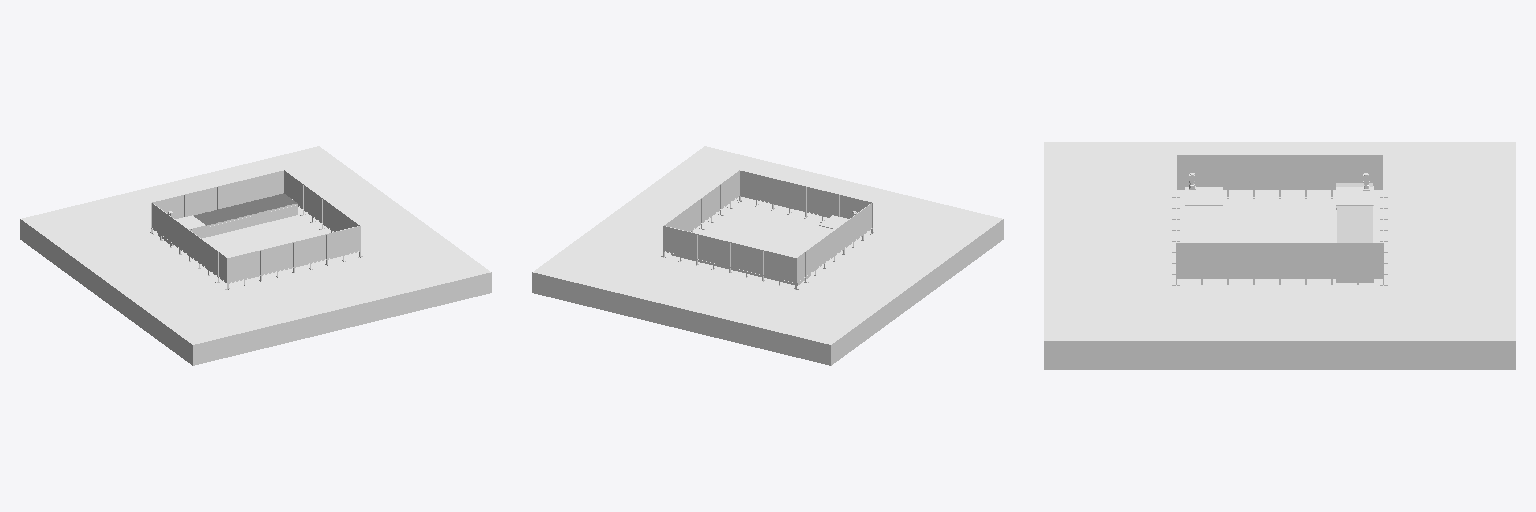
robot.urdf — rccn_kuka_robot_cell:
<?xml version="1.0" ?>
<!-- =================================================================================== -->
<!-- |    This document was autogenerated by xacro from rccn_kuka_robot_cell.xacro     | -->
<!-- |    EDITING THIS FILE BY HAND IS NOT RECOMMENDED                                 | -->
<!-- =================================================================================== -->
<robot name="rccn_kuka_robot_cell">
  <link name="kuka_robot_cell_world">
    <visual>
      <geometry>
        <mesh filename="package://rccn_kuka_robot_cell/meshes/world/visual/robot_cell_fixture.stl"/>
      </geometry>
      <material name="">
        <color rgba="1.0 1.0 1.0 1.0"/>
      </material>
    </visual>
    <collision>
      <geometry>
        <mesh filename="package://rccn_kuka_robot_cell/meshes/world/collision/floor.stl" scale="0.001 0.001 0.001"/>
      </geometry>
    </collision>
  </link>
  <link name="east_e1_rail">
    <visual>
      <geometry>
        <mesh filename="package://rccn_kuka_robot_cell/meshes/rail/visual/east_rail.stl"/>
      </geometry>
      <material name="">
        <color rgba="1.0 1.0 1.0 1.0"/>
      </material>
    </visual>
    <collision>
      <geometry>
        <mesh filename="package://rccn_kuka_robot_cell/meshes/rail/collision/east_rail.stl" scale="0.001 0.001 0.001"/>
      </geometry>
    </collision>
  </link>
  <joint name="east_joint_e1" type="prismatic">
    <parent link="east_e1_rail"/>
    <child link="east_e1_plate"/>
    <!-- Here we enter the joint position just defined before -->
    <origin rpy="0.00000000 0.00000000 0.00000000" xyz="0.00000000 0.00000000 0.00000000"/>
    <!-- Here we define the axis along which the geometry is moved -->
    <axis xyz="1 0 0"/>
    <!-- Here we define the joint's upper and lower limits -->
    <limit effort="1000.0" lower="0.0" upper="4.266" velocity="0.25"/>
  </joint>
  <link name="east_e1_plate">
    <visual>
      <geometry>
        <mesh filename="package://rccn_kuka_robot_cell/meshes/rail/visual/east_plate.stl"/>
      </geometry>
      <material name="">
        <color rgba="1.0 1.0 1.0 1.0"/>
      </material>
    </visual>
    <collision>
      <geometry>
        <mesh filename="package://rccn_kuka_robot_cell/meshes/rail/collision/east_plate.stl" scale="0.001 0.001 0.001"/>
      </geometry>
    </collision>
  </link>
  <joint name="east_attachment_joint" type="fixed">
    <parent link="east_e1_plate"/>
    <child link="east_base_link"/>
    <origin rpy="-0.00000002 -0.00012841 0.00024798" xyz="-0.00206000 -0.00032000 -0.00000000"/>
  </joint>
  <!-- LINKS -->
  <!-- base link -->
  <link name="east_base_link">
    <inertial>
      <origin rpy="0 0 0" xyz="0 0 0"/>
      <mass value="2"/>
      <inertia ixx="0.01" ixy="0" ixz="0" iyy="0.01" iyz="0" izz="0.01"/>
    </inertial>
    <visual>
      <origin rpy="0 0 0" xyz="0 0 0"/>
      <geometry>
        <mesh filename="package://kuka_kr300_support/meshes/kr300r2500ultra/visual/base_link.stl"/>
      </geometry>
      <material name="">
        <color rgba="1.0 1.0 1.0 1.0"/>
      </material>
    </visual>
    <collision>
      <origin rpy="0 0 0" xyz="0 0 0"/>
      <geometry>
        <mesh filename="package://kuka_kr300_support/meshes/kr300r2500ultra/collision/base_link.stl" scale="0.001 0.001 0.001"/>
      </geometry>
    </collision>
  </link>
  <!-- link 1 (A1) -->
  <link name="east_link_1">
    <inertial>
      <origin rpy="0 0 0" xyz="0 0 0"/>
      <mass value="2"/>
      <inertia ixx="0.01" ixy="0" ixz="0" iyy="0.01" iyz="0" izz="0.01"/>
    </inertial>
    <visual>
      <origin rpy="0 0 0" xyz="0 0 0"/>
      <geometry>
        <mesh filename="package://kuka_kr300_support/meshes/kr300r2500ultra/visual/link_1.stl"/>
      </geometry>
      <material name="">
        <color rgba="1.0 1.0 1.0 1.0"/>
      </material>
    </visual>
    <collision>
      <origin rpy="0 0 0" xyz="0 0 0"/>
      <geometry>
        <mesh filename="package://kuka_kr300_support/meshes/kr300r2500ultra/collision/link_1.stl" scale="0.001 0.001 0.001"/>
      </geometry>
    </collision>
  </link>
  <!-- link 2 -->
  <link name="east_link_2">
    <inertial>
      <origin rpy="0 0 0" xyz="0 0 0"/>
      <mass value="2"/>
      <inertia ixx="0.01" ixy="0" ixz="0" iyy="0.01" iyz="0" izz="0.01"/>
    </inertial>
    <visual>
      <origin rpy="0 0 0" xyz="0 0 0"/>
      <geometry>
        <mesh filename="package://kuka_kr300_support/meshes/kr300r2500ultra/visual/link_2.stl"/>
      </geometry>
      <material name="">
        <color rgba="1.0 1.0 1.0 1.0"/>
      </material>
    </visual>
    <collision>
      <origin rpy="0 0 0" xyz="0 0 0"/>
      <geometry>
        <mesh filename="package://kuka_kr300_support/meshes/kr300r2500ultra/collision/link_2.stl" scale="0.001 0.001 0.001"/>
      </geometry>
    </collision>
  </link>
  <!-- link 3 -->
  <link name="east_link_3">
    <inertial>
      <origin rpy="0 0 0" xyz="0 0 0"/>
      <mass value="2"/>
      <inertia ixx="0.01" ixy="0" ixz="0" iyy="0.01" iyz="0" izz="0.01"/>
    </inertial>
    <visual>
      <origin rpy="0 0 0" xyz="0 0 0"/>
      <geometry>
        <mesh filename="package://kuka_kr300_support/meshes/kr300r2500ultra/visual/link_3.stl"/>
      </geometry>
      <material name="">
        <color rgba="1.0 1.0 1.0 1.0"/>
      </material>
    </visual>
    <collision>
      <origin rpy="0 0 0" xyz="0 0 0"/>
      <geometry>
        <mesh filename="package://kuka_kr300_support/meshes/kr300r2500ultra/collision/link_3.stl" scale="0.001 0.001 0.001"/>
      </geometry>
    </collision>
  </link>
  <!-- link 4 -->
  <link name="east_link_4">
    <inertial>
      <origin rpy="0 0 0" xyz="0 0 0"/>
      <mass value="2"/>
      <inertia ixx="0.01" ixy="0" ixz="0" iyy="0.01" iyz="0" izz="0.01"/>
    </inertial>
    <visual>
      <origin rpy="0 0 0" xyz="0 0 0"/>
      <geometry>
        <mesh filename="package://kuka_kr300_support/meshes/kr300r2500ultra/visual/link_4.stl"/>
      </geometry>
      <material name="">
        <color rgba="1.0 1.0 1.0 1.0"/>
      </material>
    </visual>
    <collision>
      <origin rpy="0 0 0" xyz="0 0 0"/>
      <geometry>
        <mesh filename="package://kuka_kr300_support/meshes/kr300r2500ultra/collision/link_4.stl" scale="0.001 0.001 0.001"/>
      </geometry>
    </collision>
  </link>
  <!-- link 5 -->
  <link name="east_link_5">
    <inertial>
      <origin rpy="0 0 0" xyz="0 0 0"/>
      <mass value="2"/>
      <inertia ixx="0.01" ixy="0" ixz="0" iyy="0.01" iyz="0" izz="0.01"/>
    </inertial>
    <visual>
      <origin rpy="0 0 0" xyz="0 0 0"/>
      <geometry>
        <mesh filename="package://kuka_kr300_support/meshes/kr300r2500ultra/visual/link_5.stl"/>
      </geometry>
      <material name="">
        <color rgba="1.0 1.0 1.0 1.0"/>
      </material>
    </visual>
    <collision>
      <origin rpy="0 0 0" xyz="0 0 0"/>
      <geometry>
        <mesh filename="package://kuka_kr300_support/meshes/kr300r2500ultra/collision/link_5.stl" scale="0.001 0.001 0.001"/>
      </geometry>
    </collision>
  </link>
  <!-- link 6 -->
  <link name="east_link_6">
    <inertial>
      <origin rpy="0 0 0" xyz="0 0 0"/>
      <mass value="2"/>
      <inertia ixx="0.01" ixy="0" ixz="0" iyy="0.01" iyz="0" izz="0.01"/>
    </inertial>
    <visual>
      <origin rpy="0 0 0" xyz="0 0 0"/>
      <geometry>
        <mesh filename="package://kuka_kr300_support/meshes/kr300r2500ultra/visual/link_6.stl"/>
      </geometry>
      <material name="">
        <color rgba="1.0 1.0 1.0 1.0"/>
      </material>
    </visual>
    <collision>
      <origin rpy="0 0 0" xyz="0 0 0"/>
      <geometry>
        <mesh filename="package://kuka_kr300_support/meshes/kr300r2500ultra/collision/link_6.stl" scale="0.001 0.001 0.001"/>
      </geometry>
    </collision>
  </link>
  <!-- tool 0 -->
  <!-- This frame corresponds to the $FLANGE coordinate system in KUKA KRC controllers. -->
  <link name="east_tool0"/>
  <!-- END LINKS -->
  <!-- JOINTS -->
  <!-- joint 1 (A1) -->
  <joint name="east_joint_a1" type="revolute">
    <origin rpy="0 0 0" xyz="0 0 0.675"/>
    <parent link="east_base_link"/>
    <child link="east_link_1"/>
    <axis xyz="0 0 -1"/>
    <limit effort="0" lower="-3.2288591161895095" upper="3.2288591161895095" velocity="2.722713633111154"/>
  </joint>
  <!-- joint 2 (A2) -->
  <joint name="east_joint_a2" type="revolute">
    <origin rpy="0 0 0" xyz="0.35 0 0"/>
    <parent link="east_link_1"/>
    <child link="east_link_2"/>
    <axis xyz="0 1 0"/>
    <limit effort="0" lower="-2.705260340591211" upper="0.6108652381980153" velocity="2.722713633111154"/>
  </joint>
  <!-- joint 3 (A3) -->
  <joint name="east_joint_a3" type="revolute">
    <origin rpy="0 0 0" xyz="1.150 0 0"/>
    <parent link="east_link_2"/>
    <child link="east_link_3"/>
    <axis xyz="0 1 0"/>
    <limit effort="0" lower="-2.2689280275926285" upper="2.6878070480712677" velocity="2.722713633111154"/>
  </joint>
  <!-- joint 4 (A4) -->
  <joint name="east_joint_a4" type="revolute">
    <origin rpy="0 0 0" xyz="1.0 0 -0.041"/>
    <parent link="east_link_3"/>
    <child link="east_link_4"/>
    <axis xyz="-1 0 0"/>
    <limit effort="0" lower="-6.1086523819801535" upper="6.1086523819801535" velocity="5.759586531581287"/>
  </joint>
  <!-- joint 5 (A5) -->
  <joint name="east_joint_a5" type="revolute">
    <origin rpy="0 0 0" xyz="0 0 0"/>
    <parent link="east_link_4"/>
    <child link="east_link_5"/>
    <axis xyz="0 1 0"/>
    <limit effort="0" lower="-2.2689280275926285" upper="2.2689280275926285" velocity="5.759586531581287"/>
  </joint>
  <!-- joint 6 (A6) -->
  <joint name="east_joint_a6" type="revolute">
    <origin rpy="0 0 0" xyz="0 0 0"/>
    <parent link="east_link_5"/>
    <child link="east_link_6"/>
    <axis xyz="-1 0 0"/>
    <limit effort="0" lower="-6.1086523819801535" upper="6.1086523819801535" velocity="10.733774899765127"/>
  </joint>
  <!-- tool frame - fixed frame -->
  <joint name="east_joint_a6-tool0" type="fixed">
    <parent link="east_link_6"/>
    <child link="east_tool0"/>
    <origin rpy="0 1.5707963267948966 0" xyz="0.240 0 0"/>
  </joint>
  <!-- END JOINTS -->
  <!-- ROS base_link to KUKA $ROBROOT coordinate system transform -->
  <link name="east_base"/>
  <joint name="east_base_link-base" type="fixed">
    <origin rpy="0 0 0" xyz="0 0 0"/>
    <parent link="east_base_link"/>
    <child link="east_base"/>
  </joint>
  <joint name="east_world_joint" type="fixed">
    <parent link="kuka_robot_cell_world"/>
    <child link="east_e1_rail"/>
    <origin rpy="0.00000000 0.00000000 0.00000000" xyz="0.00000000 -2.40000000 0.00000000"/>
  </joint>
  <link name="west_e1_rail">
    <visual>
      <geometry>
        <mesh filename="package://rccn_kuka_robot_cell/meshes/rail/visual/west_rail.stl"/>
      </geometry>
      <material name="">
        <color rgba="1.0 1.0 1.0 1.0"/>
      </material>
    </visual>
    <collision>
      <geometry>
        <mesh filename="package://rccn_kuka_robot_cell/meshes/rail/collision/west_rail.stl" scale="0.001 0.001 0.001"/>
      </geometry>
    </collision>
  </link>
  <joint name="west_joint_e1" type="prismatic">
    <parent link="west_e1_rail"/>
    <child link="west_e1_plate"/>
    <!-- Here we enter the joint position just defined before -->
    <origin rpy="0.00000000 0.00000000 0.00000000" xyz="0.00000000 0.00000000 0.00000000"/>
    <!-- Here we define the axis along which the geometry is moved -->
    <axis xyz="1 0 0"/>
    <!-- Here we define the joint's upper and lower limits -->
    <limit effort="1000.0" lower="0.0" upper="4.266" velocity="0.25"/>
  </joint>
  <link name="west_e1_plate">
    <visual>
      <geometry>
        <mesh filename="package://rccn_kuka_robot_cell/meshes/rail/visual/west_plate.stl"/>
      </geometry>
      <material name="">
        <color rgba="1.0 1.0 1.0 1.0"/>
      </material>
    </visual>
    <collision>
      <geometry>
        <mesh filename="package://rccn_kuka_robot_cell/meshes/rail/collision/west_plate.stl" scale="0.001 0.001 0.001"/>
      </geometry>
    </collision>
  </link>
  <joint name="west_attachment_joint" type="fixed">
    <parent link="west_e1_plate"/>
    <child link="west_base_link"/>
    <origin rpy="0.00000184 0.00009015 0.00206101" xyz="-0.00043000 -0.00044000 -0.00000000"/>
  </joint>
  <!-- LINKS -->
  <!-- base link -->
  <link name="west_base_link">
    <inertial>
      <origin rpy="0 0 0" xyz="0 0 0"/>
      <mass value="2"/>
      <inertia ixx="0.01" ixy="0" ixz="0" iyy="0.01" iyz="0" izz="0.01"/>
    </inertial>
    <visual>
      <origin rpy="0 0 0" xyz="0 0 0"/>
      <geometry>
        <mesh filename="package://kuka_kr300_support/meshes/kr300r2500ultra/visual/base_link.stl"/>
      </geometry>
      <material name="">
        <color rgba="1.0 1.0 1.0 1.0"/>
      </material>
    </visual>
    <collision>
      <origin rpy="0 0 0" xyz="0 0 0"/>
      <geometry>
        <mesh filename="package://kuka_kr300_support/meshes/kr300r2500ultra/collision/base_link.stl" scale="0.001 0.001 0.001"/>
      </geometry>
    </collision>
  </link>
  <!-- link 1 (A1) -->
  <link name="west_link_1">
    <inertial>
      <origin rpy="0 0 0" xyz="0 0 0"/>
      <mass value="2"/>
      <inertia ixx="0.01" ixy="0" ixz="0" iyy="0.01" iyz="0" izz="0.01"/>
    </inertial>
    <visual>
      <origin rpy="0 0 0" xyz="0 0 0"/>
      <geometry>
        <mesh filename="package://kuka_kr300_support/meshes/kr300r2500ultra/visual/link_1.stl"/>
      </geometry>
      <material name="">
        <color rgba="1.0 1.0 1.0 1.0"/>
      </material>
    </visual>
    <collision>
      <origin rpy="0 0 0" xyz="0 0 0"/>
      <geometry>
        <mesh filename="package://kuka_kr300_support/meshes/kr300r2500ultra/collision/link_1.stl" scale="0.001 0.001 0.001"/>
      </geometry>
    </collision>
  </link>
  <!-- link 2 -->
  <link name="west_link_2">
    <inertial>
      <origin rpy="0 0 0" xyz="0 0 0"/>
      <mass value="2"/>
      <inertia ixx="0.01" ixy="0" ixz="0" iyy="0.01" iyz="0" izz="0.01"/>
    </inertial>
    <visual>
      <origin rpy="0 0 0" xyz="0 0 0"/>
      <geometry>
        <mesh filename="package://kuka_kr300_support/meshes/kr300r2500ultra/visual/link_2.stl"/>
      </geometry>
      <material name="">
        <color rgba="1.0 1.0 1.0 1.0"/>
      </material>
    </visual>
    <collision>
      <origin rpy="0 0 0" xyz="0 0 0"/>
      <geometry>
        <mesh filename="package://kuka_kr300_support/meshes/kr300r2500ultra/collision/link_2.stl" scale="0.001 0.001 0.001"/>
      </geometry>
    </collision>
  </link>
  <!-- link 3 -->
  <link name="west_link_3">
    <inertial>
      <origin rpy="0 0 0" xyz="0 0 0"/>
      <mass value="2"/>
      <inertia ixx="0.01" ixy="0" ixz="0" iyy="0.01" iyz="0" izz="0.01"/>
    </inertial>
    <visual>
      <origin rpy="0 0 0" xyz="0 0 0"/>
      <geometry>
        <mesh filename="package://kuka_kr300_support/meshes/kr300r2500ultra/visual/link_3.stl"/>
      </geometry>
      <material name="">
        <color rgba="1.0 1.0 1.0 1.0"/>
      </material>
    </visual>
    <collision>
      <origin rpy="0 0 0" xyz="0 0 0"/>
      <geometry>
        <mesh filename="package://kuka_kr300_support/meshes/kr300r2500ultra/collision/link_3.stl" scale="0.001 0.001 0.001"/>
      </geometry>
    </collision>
  </link>
  <!-- link 4 -->
  <link name="west_link_4">
    <inertial>
      <origin rpy="0 0 0" xyz="0 0 0"/>
      <mass value="2"/>
      <inertia ixx="0.01" ixy="0" ixz="0" iyy="0.01" iyz="0" izz="0.01"/>
    </inertial>
    <visual>
      <origin rpy="0 0 0" xyz="0 0 0"/>
      <geometry>
        <mesh filename="package://kuka_kr300_support/meshes/kr300r2500ultra/visual/link_4.stl"/>
      </geometry>
      <material name="">
        <color rgba="1.0 1.0 1.0 1.0"/>
      </material>
    </visual>
    <collision>
      <origin rpy="0 0 0" xyz="0 0 0"/>
      <geometry>
        <mesh filename="package://kuka_kr300_support/meshes/kr300r2500ultra/collision/link_4.stl" scale="0.001 0.001 0.001"/>
      </geometry>
    </collision>
  </link>
  <!-- link 5 -->
  <link name="west_link_5">
    <inertial>
      <origin rpy="0 0 0" xyz="0 0 0"/>
      <mass value="2"/>
      <inertia ixx="0.01" ixy="0" ixz="0" iyy="0.01" iyz="0" izz="0.01"/>
    </inertial>
    <visual>
      <origin rpy="0 0 0" xyz="0 0 0"/>
      <geometry>
        <mesh filename="package://kuka_kr300_support/meshes/kr300r2500ultra/visual/link_5.stl"/>
      </geometry>
      <material name="">
        <color rgba="1.0 1.0 1.0 1.0"/>
      </material>
    </visual>
    <collision>
      <origin rpy="0 0 0" xyz="0 0 0"/>
      <geometry>
        <mesh filename="package://kuka_kr300_support/meshes/kr300r2500ultra/collision/link_5.stl" scale="0.001 0.001 0.001"/>
      </geometry>
    </collision>
  </link>
  <!-- link 6 -->
  <link name="west_link_6">
    <inertial>
      <origin rpy="0 0 0" xyz="0 0 0"/>
      <mass value="2"/>
      <inertia ixx="0.01" ixy="0" ixz="0" iyy="0.01" iyz="0" izz="0.01"/>
    </inertial>
    <visual>
      <origin rpy="0 0 0" xyz="0 0 0"/>
      <geometry>
        <mesh filename="package://kuka_kr300_support/meshes/kr300r2500ultra/visual/link_6.stl"/>
      </geometry>
      <material name="">
        <color rgba="1.0 1.0 1.0 1.0"/>
      </material>
    </visual>
    <collision>
      <origin rpy="0 0 0" xyz="0 0 0"/>
      <geometry>
        <mesh filename="package://kuka_kr300_support/meshes/kr300r2500ultra/collision/link_6.stl" scale="0.001 0.001 0.001"/>
      </geometry>
    </collision>
  </link>
  <!-- tool 0 -->
  <!-- This frame corresponds to the $FLANGE coordinate system in KUKA KRC controllers. -->
  <link name="west_tool0"/>
  <!-- END LINKS -->
  <!-- JOINTS -->
  <!-- joint 1 (A1) -->
  <joint name="west_joint_a1" type="revolute">
    <origin rpy="0 0 0" xyz="0 0 0.675"/>
    <parent link="west_base_link"/>
    <child link="west_link_1"/>
    <axis xyz="0 0 -1"/>
    <limit effort="0" lower="-3.2288591161895095" upper="3.2288591161895095" velocity="2.722713633111154"/>
  </joint>
  <!-- joint 2 (A2) -->
  <joint name="west_joint_a2" type="revolute">
    <origin rpy="0 0 0" xyz="0.35 0 0"/>
    <parent link="west_link_1"/>
    <child link="west_link_2"/>
    <axis xyz="0 1 0"/>
    <limit effort="0" lower="-2.705260340591211" upper="0.6108652381980153" velocity="2.722713633111154"/>
  </joint>
  <!-- joint 3 (A3) -->
  <joint name="west_joint_a3" type="revolute">
    <origin rpy="0 0 0" xyz="1.150 0 0"/>
    <parent link="west_link_2"/>
    <child link="west_link_3"/>
    <axis xyz="0 1 0"/>
    <limit effort="0" lower="-2.2689280275926285" upper="2.6878070480712677" velocity="2.722713633111154"/>
  </joint>
  <!-- joint 4 (A4) -->
  <joint name="west_joint_a4" type="revolute">
    <origin rpy="0 0 0" xyz="1.0 0 -0.041"/>
    <parent link="west_link_3"/>
    <child link="west_link_4"/>
    <axis xyz="-1 0 0"/>
    <limit effort="0" lower="-6.1086523819801535" upper="6.1086523819801535" velocity="5.759586531581287"/>
  </joint>
  <!-- joint 5 (A5) -->
  <joint name="west_joint_a5" type="revolute">
    <origin rpy="0 0 0" xyz="0 0 0"/>
    <parent link="west_link_4"/>
    <child link="west_link_5"/>
    <axis xyz="0 1 0"/>
    <limit effort="0" lower="-2.2689280275926285" upper="2.2689280275926285" velocity="5.759586531581287"/>
  </joint>
  <!-- joint 6 (A6) -->
  <joint name="west_joint_a6" type="revolute">
    <origin rpy="0 0 0" xyz="0 0 0"/>
    <parent link="west_link_5"/>
    <child link="west_link_6"/>
    <axis xyz="-1 0 0"/>
    <limit effort="0" lower="-6.1086523819801535" upper="6.1086523819801535" velocity="10.733774899765127"/>
  </joint>
  <!-- tool frame - fixed frame -->
  <joint name="west_joint_a6-tool0" type="fixed">
    <parent link="west_link_6"/>
    <child link="west_tool0"/>
    <origin rpy="0 1.5707963267948966 0" xyz="0.240 0 0"/>
  </joint>
  <!-- END JOINTS -->
  <!-- ROS base_link to KUKA $ROBROOT coordinate system transform -->
  <link name="west_base"/>
  <joint name="west_base_link-base" type="fixed">
    <origin rpy="0 0 0" xyz="0 0 0"/>
    <parent link="west_base_link"/>
    <child link="west_base"/>
  </joint>
  <joint name="west_world_joint" type="fixed">
    <parent link="kuka_robot_cell_world"/>
    <child link="west_e1_rail"/>
    <origin rpy="0.00000000 0.00000000 0.00316232" xyz="0.03750000 2.40330000 -0.00200000"/>
  </joint>
</robot>

--- Render facts (derived) ---
The picture shows the robot from 3 angles, left to right: view 1: azimuth 30°, elevation 25°; view 2: azimuth 150°, elevation 25°; view 3: azimuth 270°, elevation 25°; orthographic projection.
Robot: rccn_kuka_robot_cell — 23 links, 22 joints (12 revolute, 2 prismatic, 8 fixed); root link kuka_robot_cell_world; default pose: all joints at 0.
Visible links, largest first — view 1: kuka_robot_cell_world, west_e1_rail; view 2: kuka_robot_cell_world; view 3: kuka_robot_cell_world, west_e1_rail, east_e1_plate, west_e1_plate.
Boxes of the visible links, bbox=[...] form: kuka_robot_cell_world: bbox=[20, 146, 491, 365]; west_e1_rail: bbox=[158, 193, 297, 245]; kuka_robot_cell_world: bbox=[532, 146, 1003, 365]; kuka_robot_cell_world: bbox=[1044, 142, 1515, 369]; west_e1_rail: bbox=[1336, 183, 1373, 282]; east_e1_plate: bbox=[1185, 173, 1222, 205]; west_e1_plate: bbox=[1336, 173, 1373, 205].
Bounding box of the posed robot: 15 × 15 × 2.51 m (x, y, z).
Meshes: 12 distinct files referenced, 4 mesh visuals loaded (4 binary STL); not drawn: 15 (reference not matched to a file when rendering).